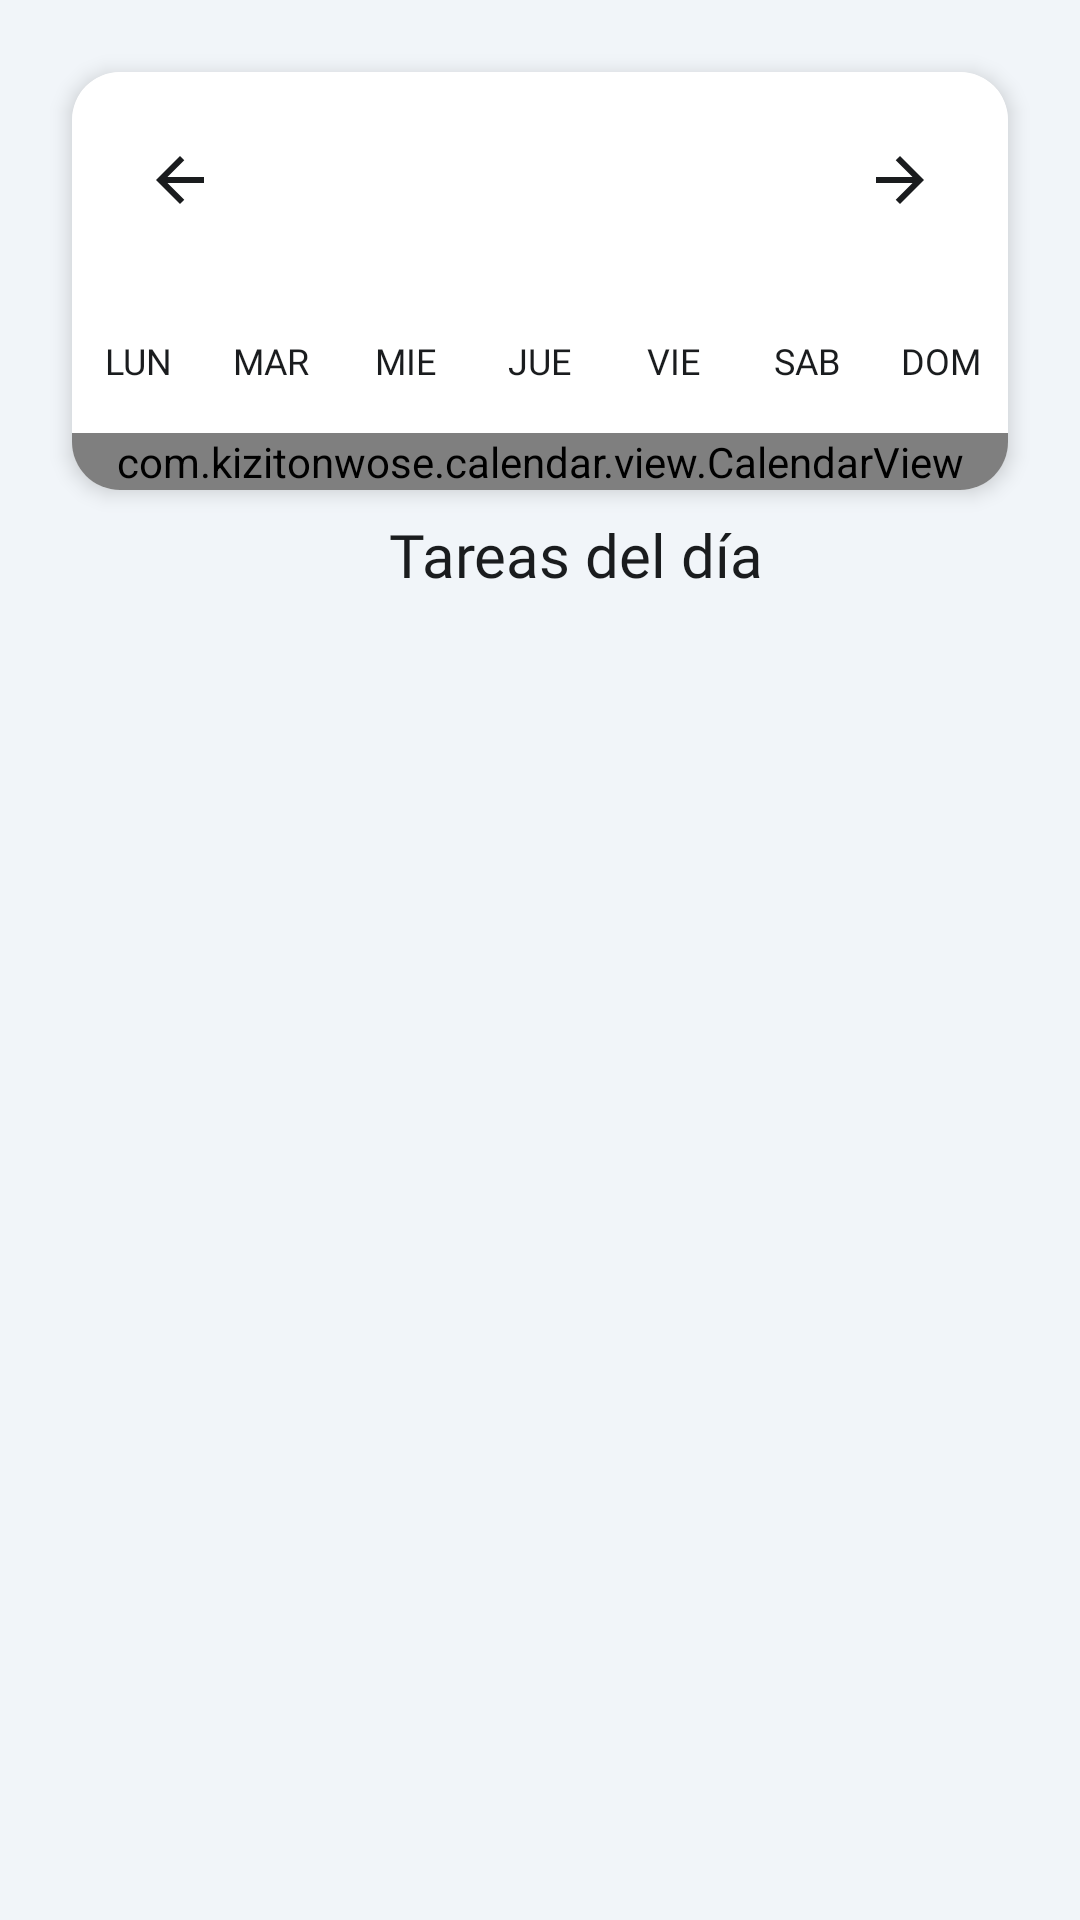

Icon click points for this 1080 x 1920 phone screenshot, format [x,y]:
Mes anterior: [180,180]
